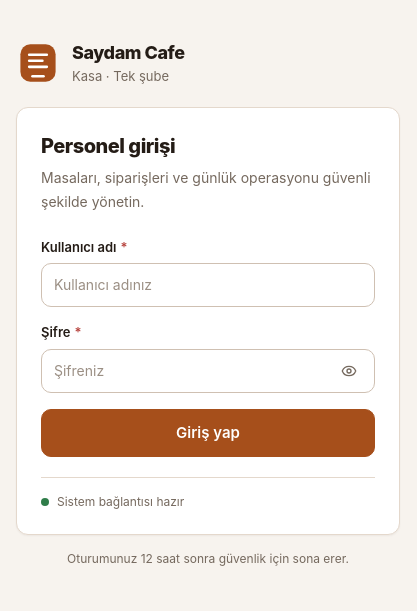
Frontend authentication › hatalı login genel mesajını gösterir
This screenshot has width=417, height=611.
Type "owner" into the field labelled "Kullanıcı adı". click: (208, 285)
box: [41,263,375,307]
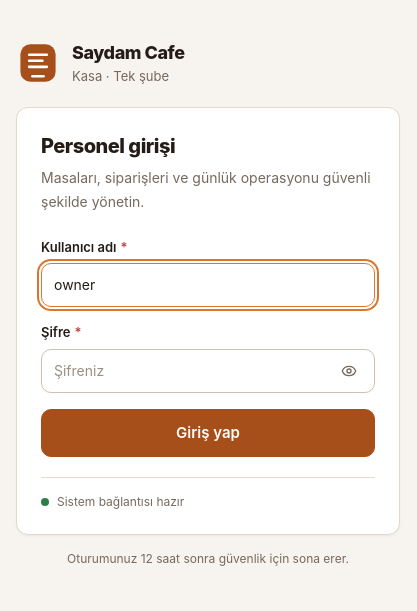
Type "YanlisTest12!" into the password field labelled "Şifre". click: (208, 371)
box: [41,349,375,393]
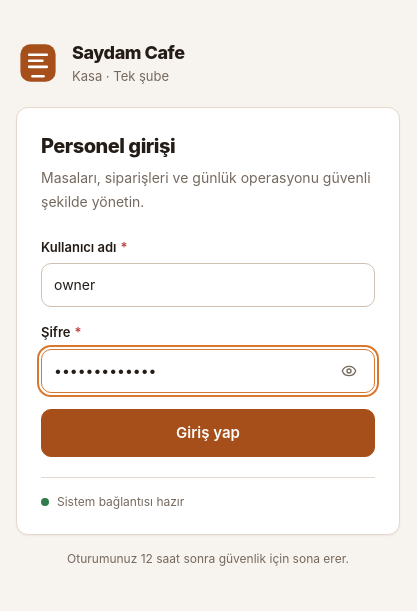
Click the button "Giriş yap". click: (208, 433)
box: [41,409,375,457]
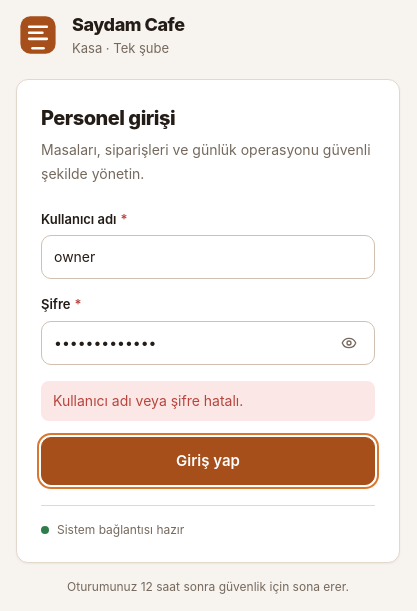
Now the message reads "Kullanıcı adı veya şifre hatalı.", box [53,392,243,409]
